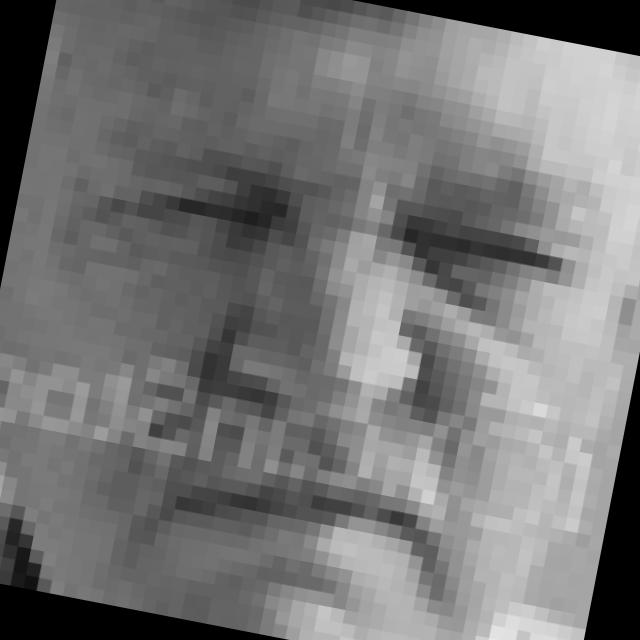disgust: (31, 85, 602, 640)
